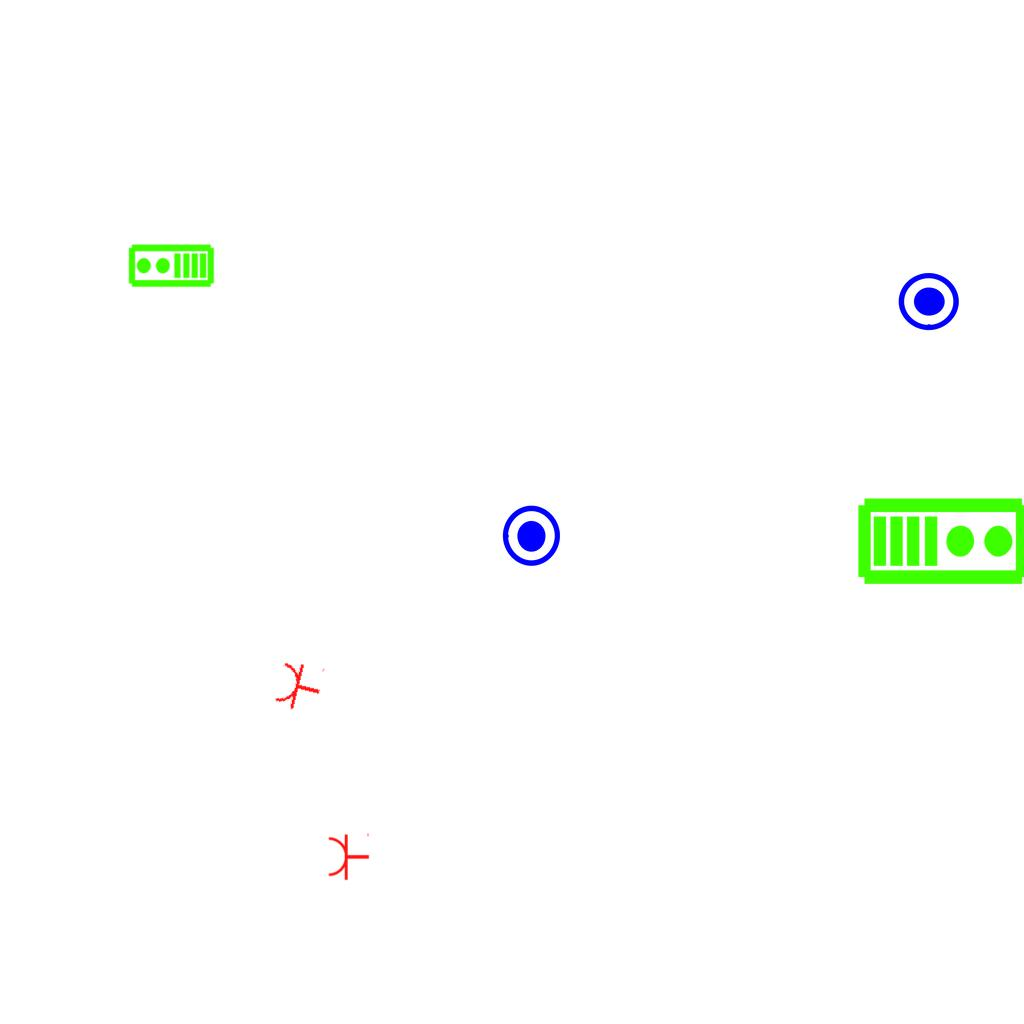Gegensprechanlage_mit_Video: (856, 492, 1024, 587), (127, 243, 215, 290)
Schukosteckdose_einfach: (272, 656, 327, 716), (327, 831, 370, 881)
Taster: (896, 271, 962, 337), (496, 503, 562, 569)
